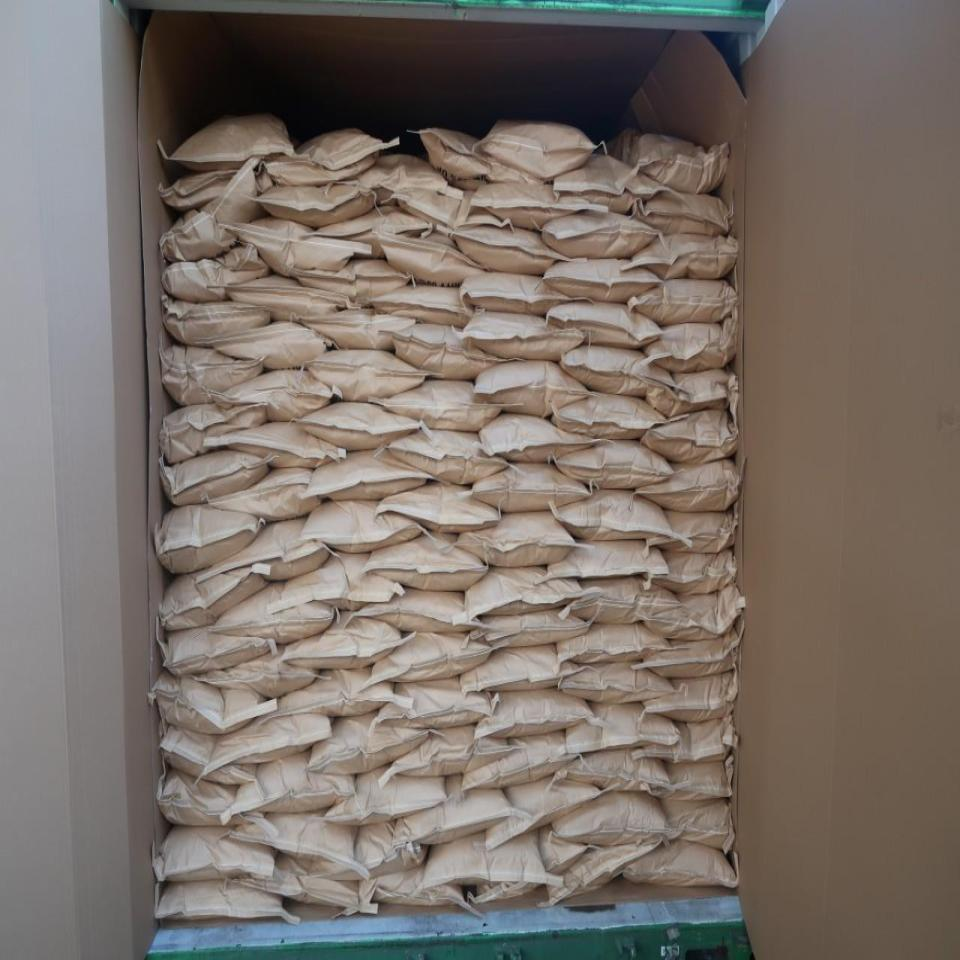bag: (160, 158, 274, 258), (472, 824, 590, 903), (233, 809, 364, 880), (485, 776, 603, 852), (393, 776, 517, 848), (248, 667, 398, 725), (417, 830, 556, 892), (228, 749, 353, 817), (233, 856, 374, 914), (420, 127, 545, 191), (227, 217, 367, 274), (309, 714, 436, 776), (329, 764, 450, 828), (607, 131, 729, 193), (166, 111, 296, 169), (214, 581, 338, 640), (461, 731, 583, 790), (304, 449, 437, 503), (156, 508, 266, 573), (155, 826, 276, 885), (264, 129, 396, 183), (391, 724, 525, 777), (280, 551, 400, 610), (368, 634, 501, 687), (383, 428, 511, 483), (367, 533, 488, 591), (209, 715, 334, 771), (456, 511, 577, 568), (481, 121, 597, 180), (286, 614, 403, 672), (377, 230, 494, 288), (155, 674, 268, 734), (160, 567, 271, 628), (549, 845, 664, 903), (552, 157, 675, 211), (450, 226, 580, 277), (475, 359, 589, 417), (553, 791, 672, 846), (471, 184, 616, 229), (310, 350, 433, 403), (295, 402, 425, 452), (395, 323, 513, 378), (459, 644, 591, 693), (301, 499, 425, 550), (381, 380, 505, 431), (560, 344, 686, 394), (378, 679, 499, 731), (163, 243, 271, 301), (479, 414, 606, 463), (163, 347, 268, 406), (465, 567, 594, 615), (463, 312, 586, 362), (554, 493, 682, 541), (476, 689, 596, 740), (547, 298, 666, 349), (377, 483, 499, 532), (164, 629, 285, 678), (565, 702, 681, 753), (230, 520, 328, 579), (470, 463, 593, 510), (230, 272, 358, 317), (162, 454, 277, 504), (541, 211, 663, 258), (160, 405, 270, 457), (360, 588, 484, 634), (215, 370, 336, 417), (635, 461, 742, 514), (214, 469, 326, 519), (641, 667, 741, 723), (216, 323, 343, 367), (645, 313, 738, 373), (556, 441, 674, 488), (157, 885, 291, 926), (224, 423, 343, 469), (163, 728, 259, 785), (260, 183, 377, 229), (319, 207, 433, 254), (546, 257, 663, 302), (205, 647, 317, 694), (645, 586, 742, 640), (309, 308, 424, 353), (556, 749, 671, 794), (461, 273, 587, 314), (542, 540, 668, 581), (553, 395, 670, 439), (565, 580, 682, 624), (557, 621, 674, 665), (623, 843, 740, 887), (642, 411, 739, 464), (301, 258, 413, 303), (370, 283, 482, 328), (630, 279, 739, 325), (394, 189, 512, 231), (347, 156, 447, 205), (639, 630, 739, 679), (559, 662, 677, 703), (161, 299, 273, 342), (632, 235, 739, 278), (470, 610, 589, 648), (646, 370, 740, 418), (158, 771, 241, 825), (639, 717, 734, 764), (635, 191, 731, 236), (655, 796, 735, 850), (371, 870, 475, 911), (354, 819, 427, 875), (646, 554, 736, 596), (660, 510, 736, 556), (160, 168, 243, 207), (665, 758, 734, 804)
